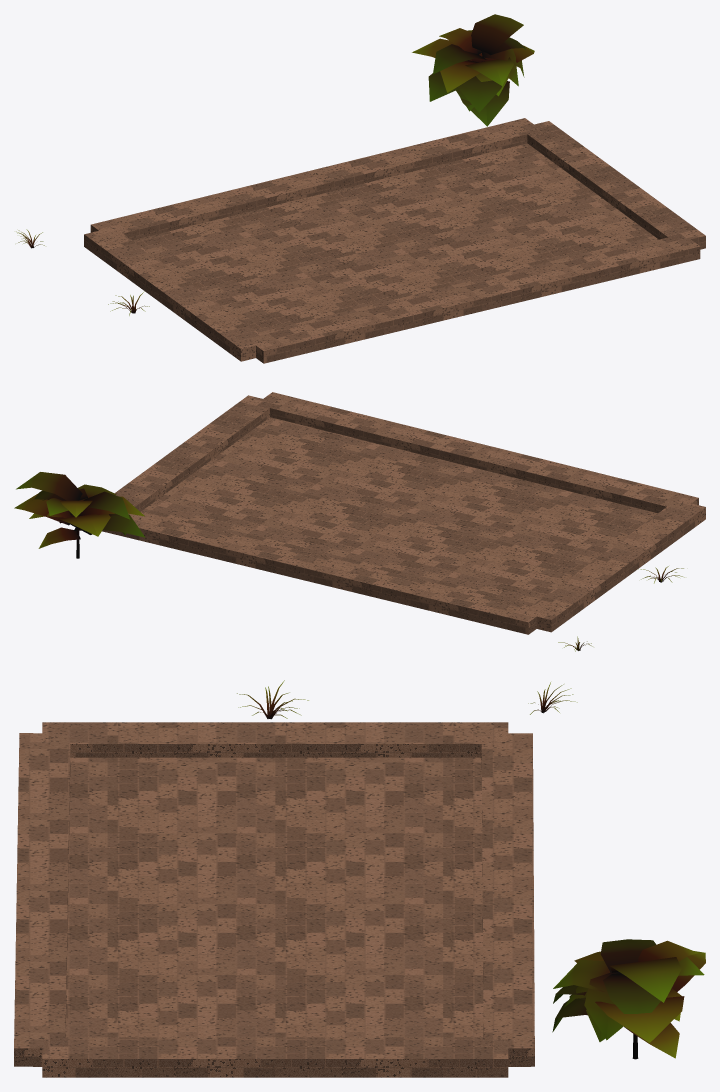
The model's file is paddy_bund_01.glb.
3 views of the same model, one above another, from view 1: azimuth 30°, elevation 25°; view 2: azimuth 150°, elevation 25°; view 3: azimuth 270°, elevation 25° (orthographic). The views are drawn at different scales.
Parts seen in each view (by area): view 1: paddy_bund_01, paddy_bund_01_veg_00_bush_c; view 2: paddy_bund_01, paddy_bund_01_veg_00_bush_c; view 3: paddy_bund_01, paddy_bund_01_veg_00_bush_c.
Boxes of the visible parts, x1,y1,x2,y2 form: paddy_bund_01: [84, 118, 705, 363]; paddy_bund_01_veg_00_bush_c: [412, 14, 534, 126]; paddy_bund_01: [102, 392, 705, 634]; paddy_bund_01_veg_00_bush_c: [14, 472, 145, 558]; paddy_bund_01: [14, 722, 534, 1077]; paddy_bund_01_veg_00_bush_c: [552, 939, 705, 1059].
Size of the model in its own units: 10.21 by 1.34 by 7.43.
4 materials, 4 textured.
